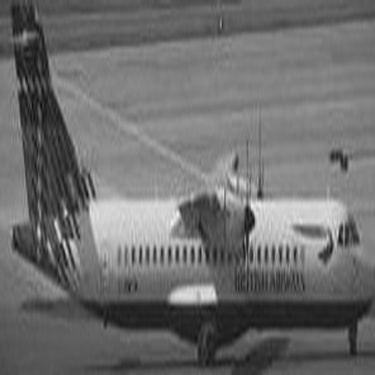airplane: (5, 1, 367, 371)
